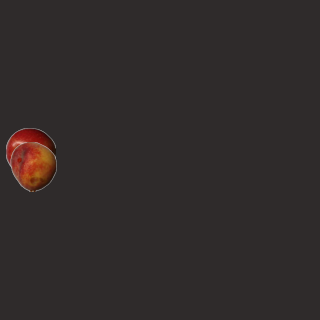Apple Braeburn: (5, 127, 55, 177)
Peach: (8, 141, 58, 191)
